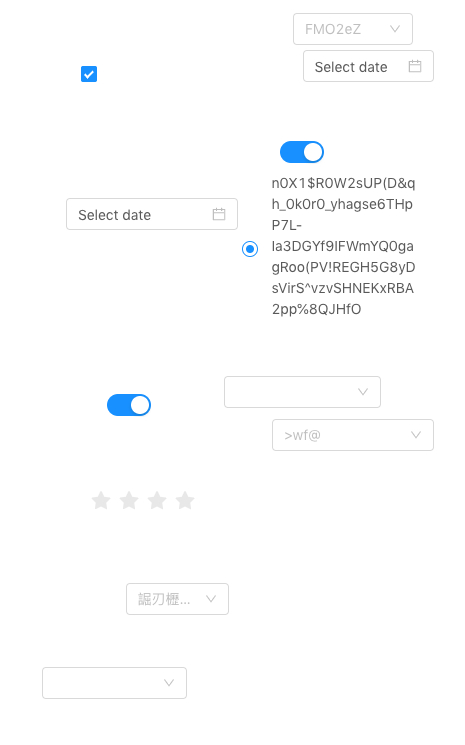Checkbox: (81, 63, 97, 84)
DatePicker: (66, 198, 238, 230), (303, 50, 434, 82)
Radio: (242, 238, 258, 258)
Rate: (91, 484, 211, 516)
Select: (272, 419, 434, 451), (224, 376, 381, 408), (42, 667, 187, 699), (293, 13, 413, 45), (126, 583, 229, 615)
Switch: (280, 140, 324, 164), (107, 393, 151, 417)
Text: (272, 172, 417, 330)
